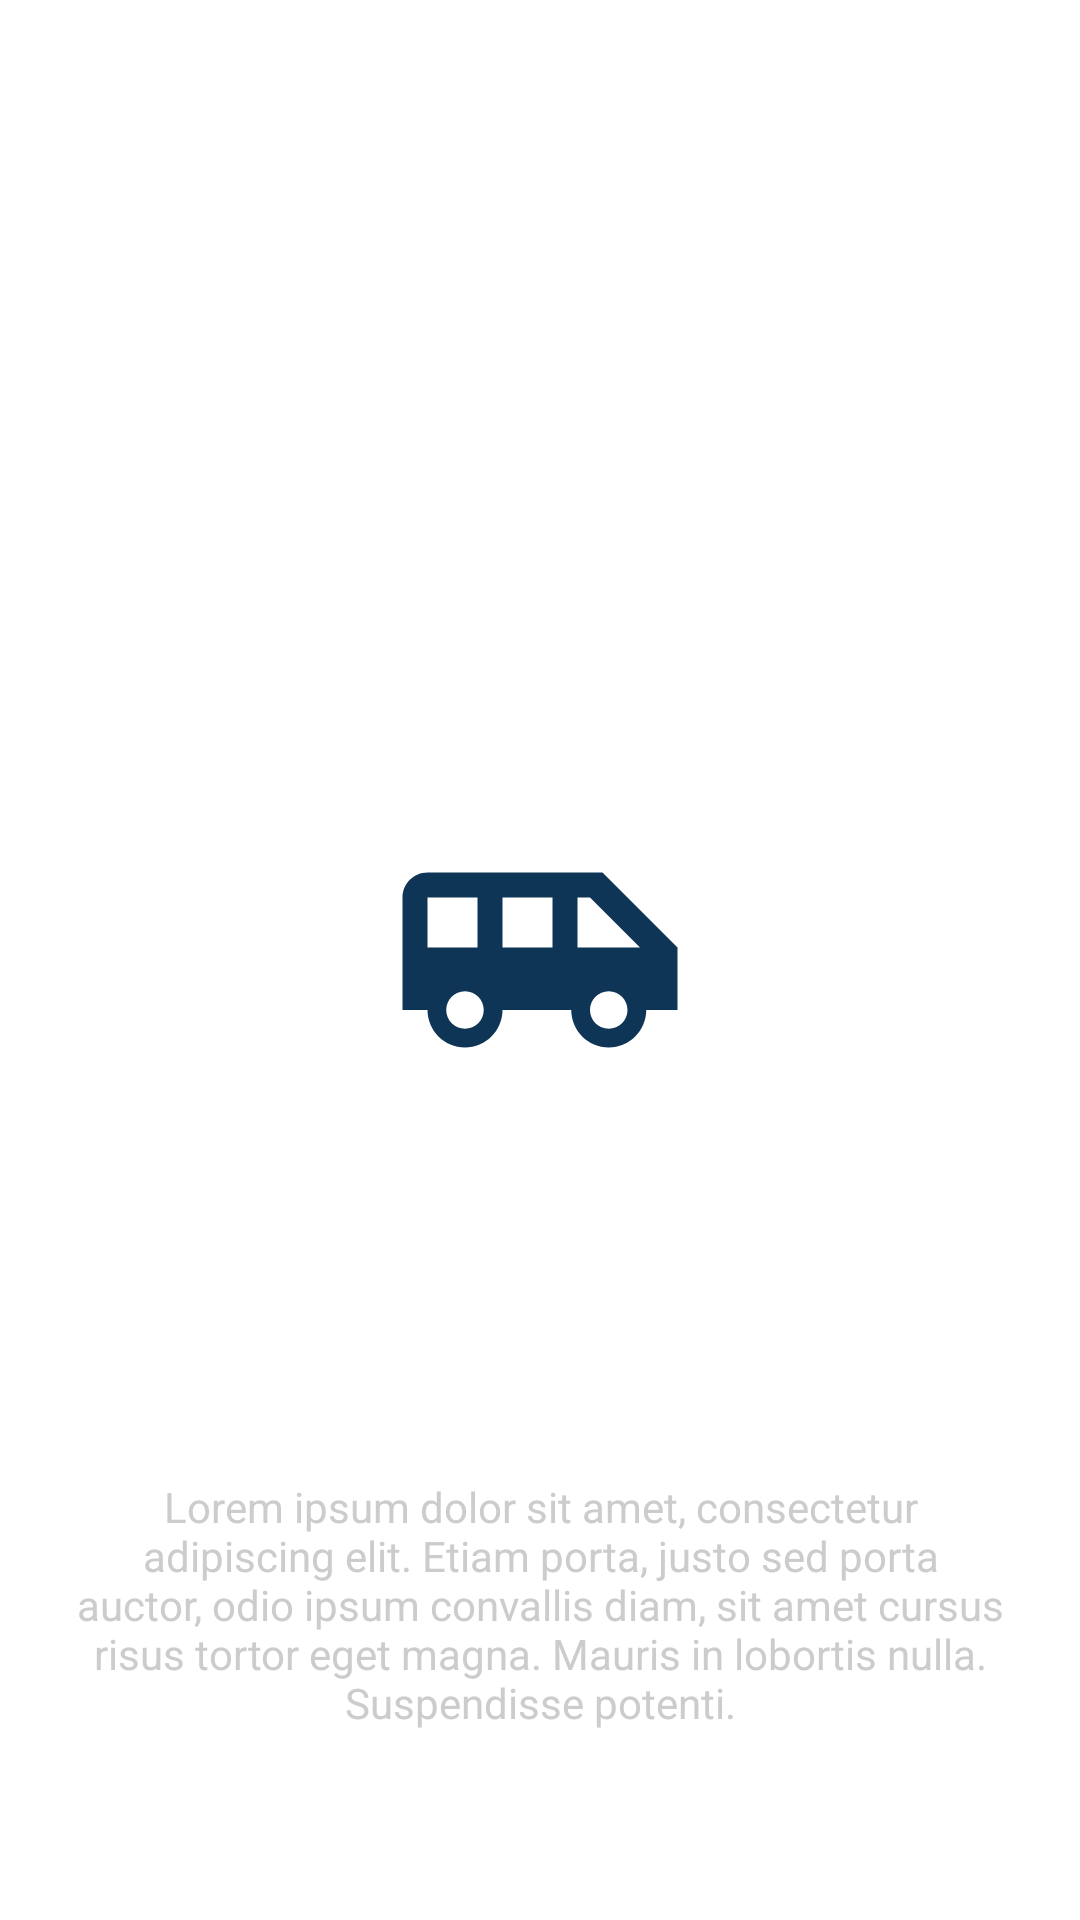

Icons on this 1080px×1920px Android screen, each with its box as BBox(x1, y1, x2, y2):
airport shuttle: BBox(402, 872, 678, 1048)
